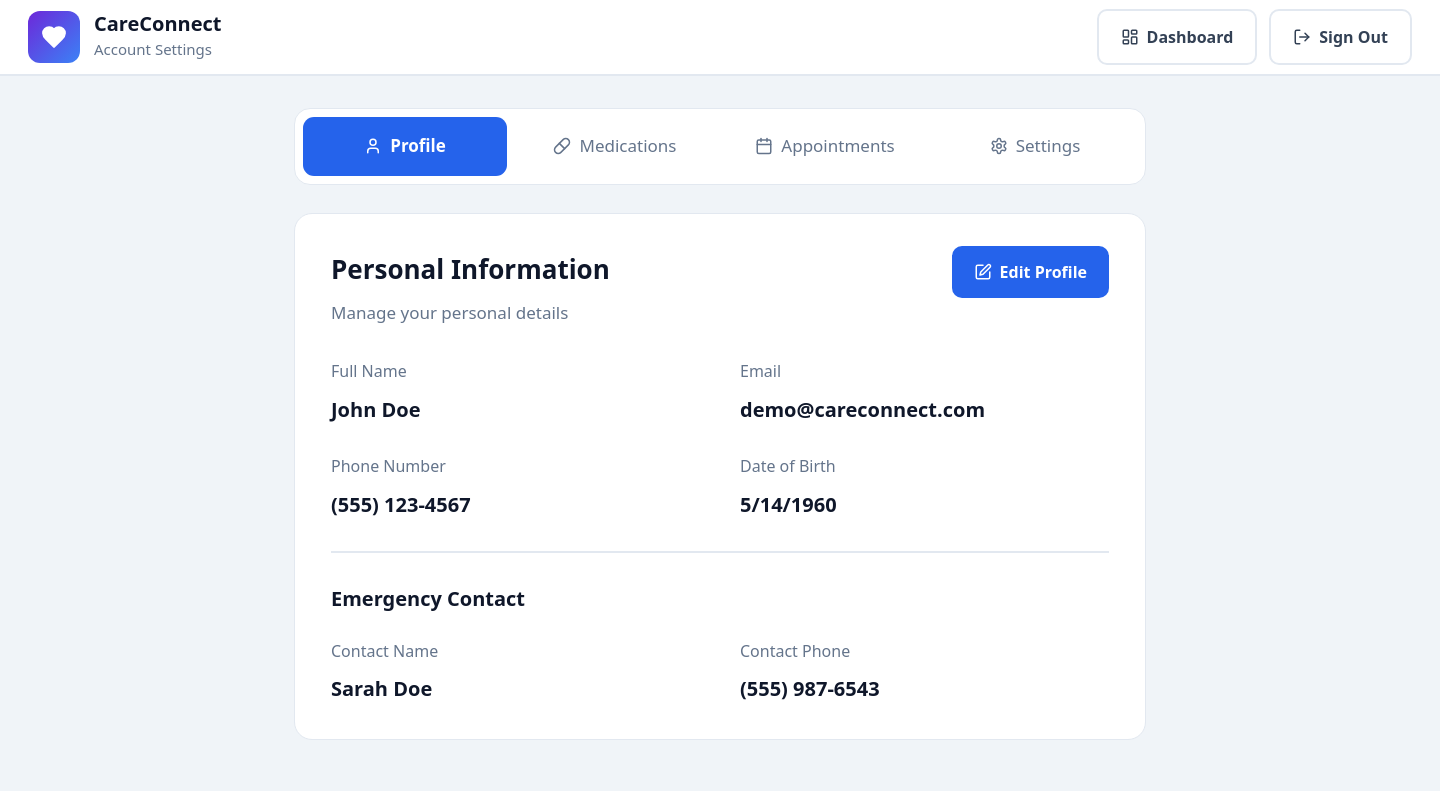
Scenario: AccountSettingsPage › opens add medication modal
Click the button "Medications" at (615, 146), box [513, 117, 717, 176]
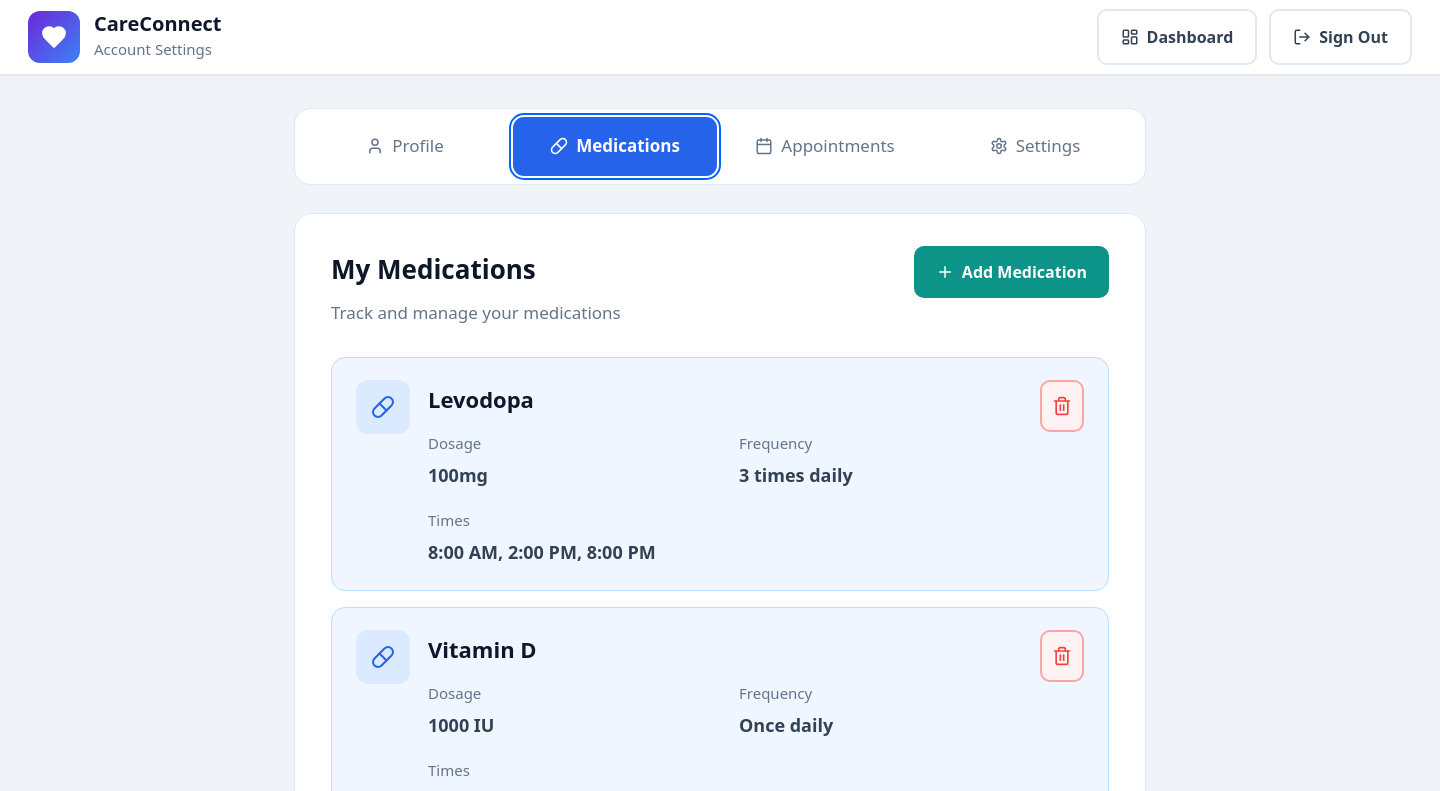
Click the button "Add Medication" at (1011, 272), box [914, 246, 1109, 298]
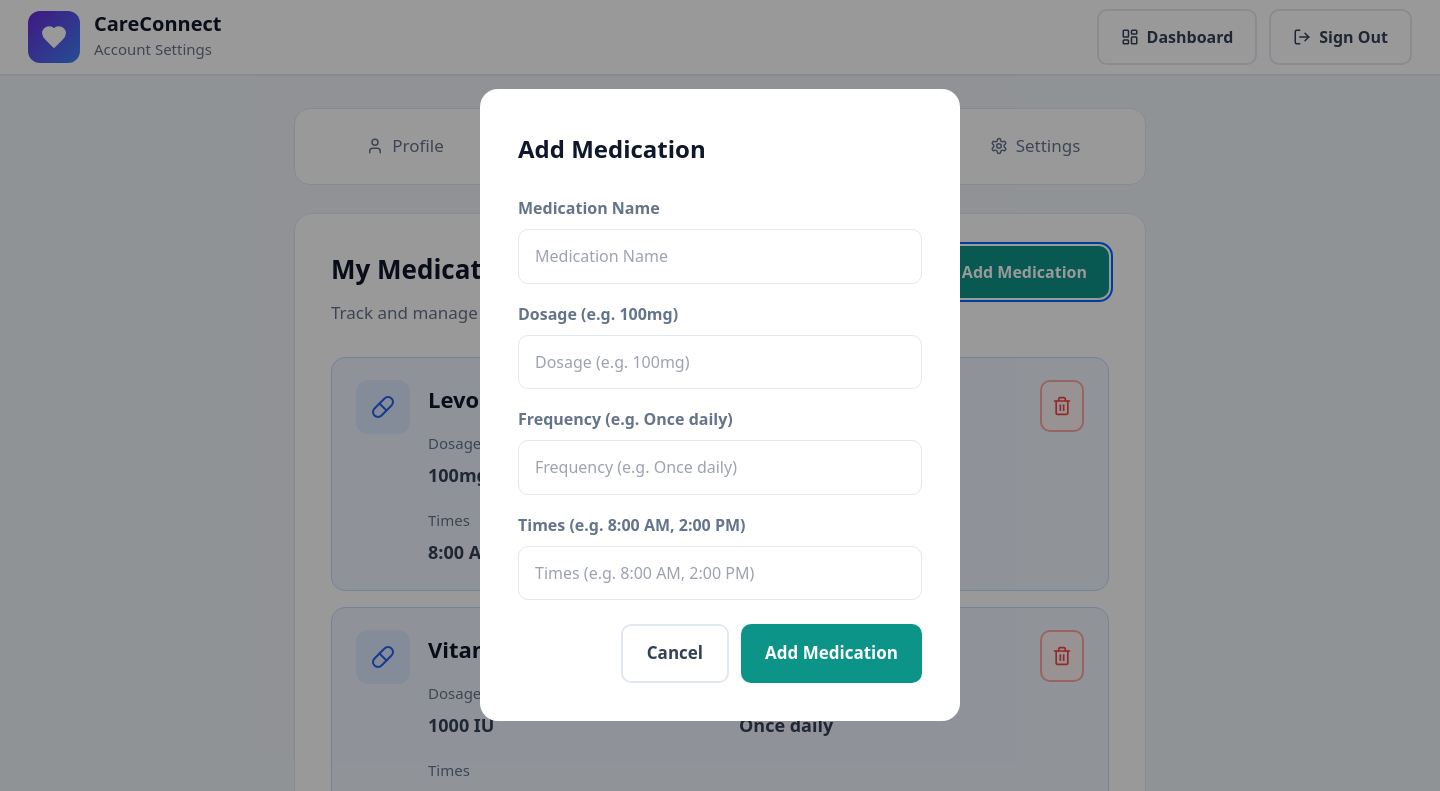
Now the heading "Add Medication" is shown, box [518, 132, 706, 165]
Now the field with placeholder "Medication Name" is shown, box [518, 229, 922, 284]
